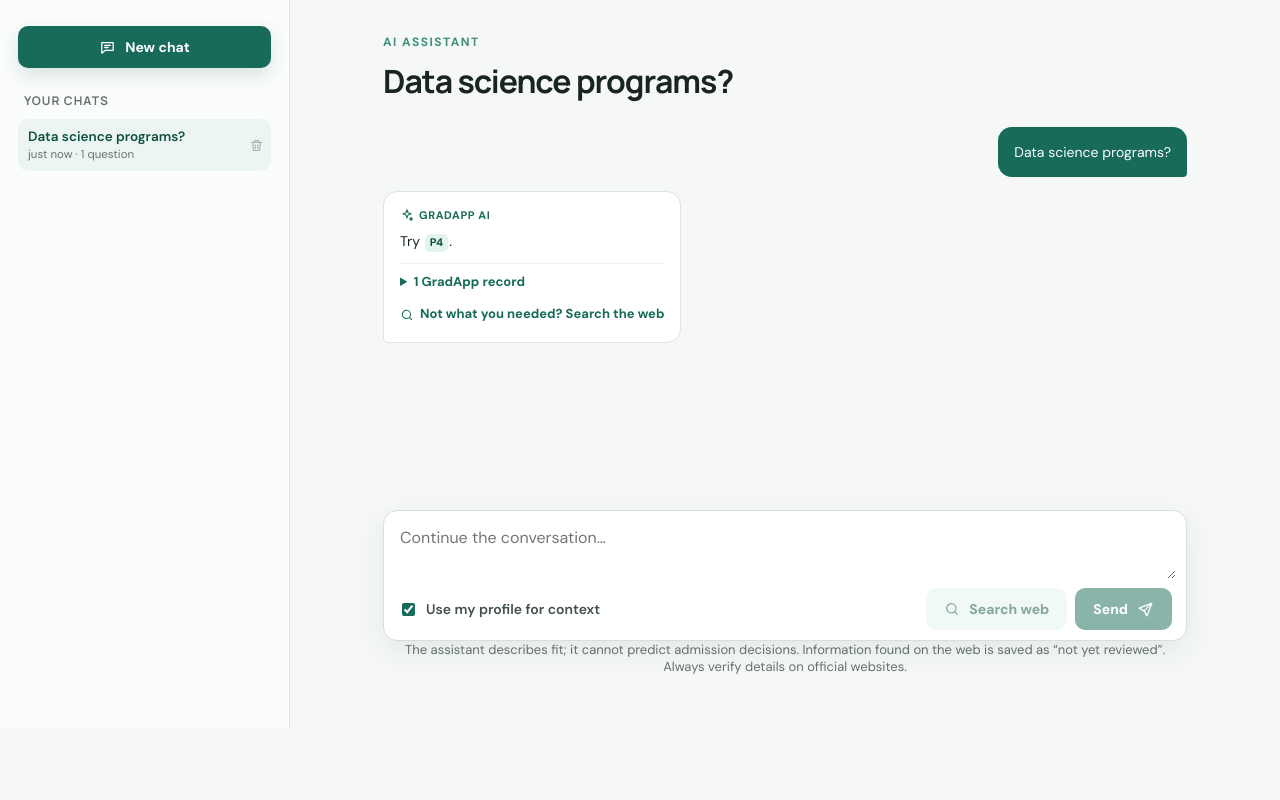
Scenario: AskPage › continues an existing conversation and can retry a question on the web
What coordinates should you click on to do the following:
click the button "Not what you needed? Search the web"
I would click on:
 (532, 315)
Its box is [400,304,664,325].
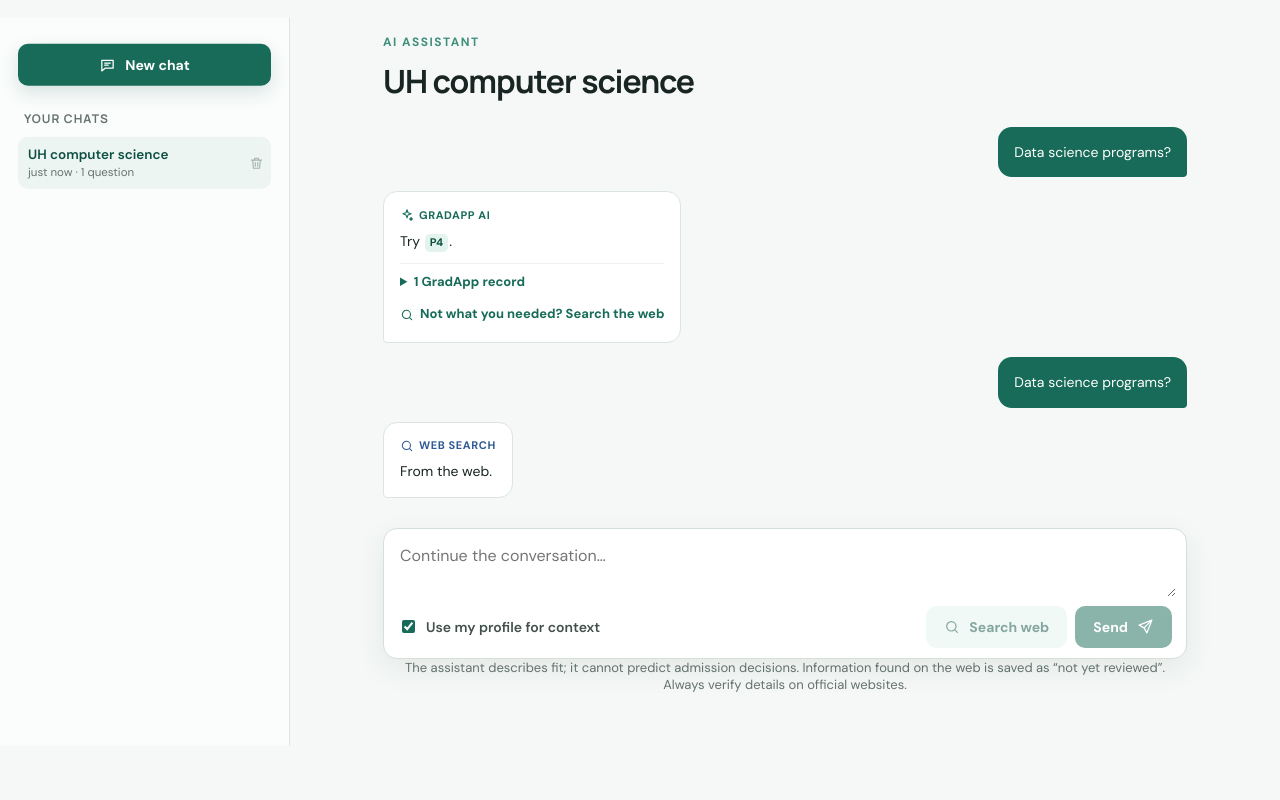
expect the text "From the web." is shown: met, box [400,460,496,483]
